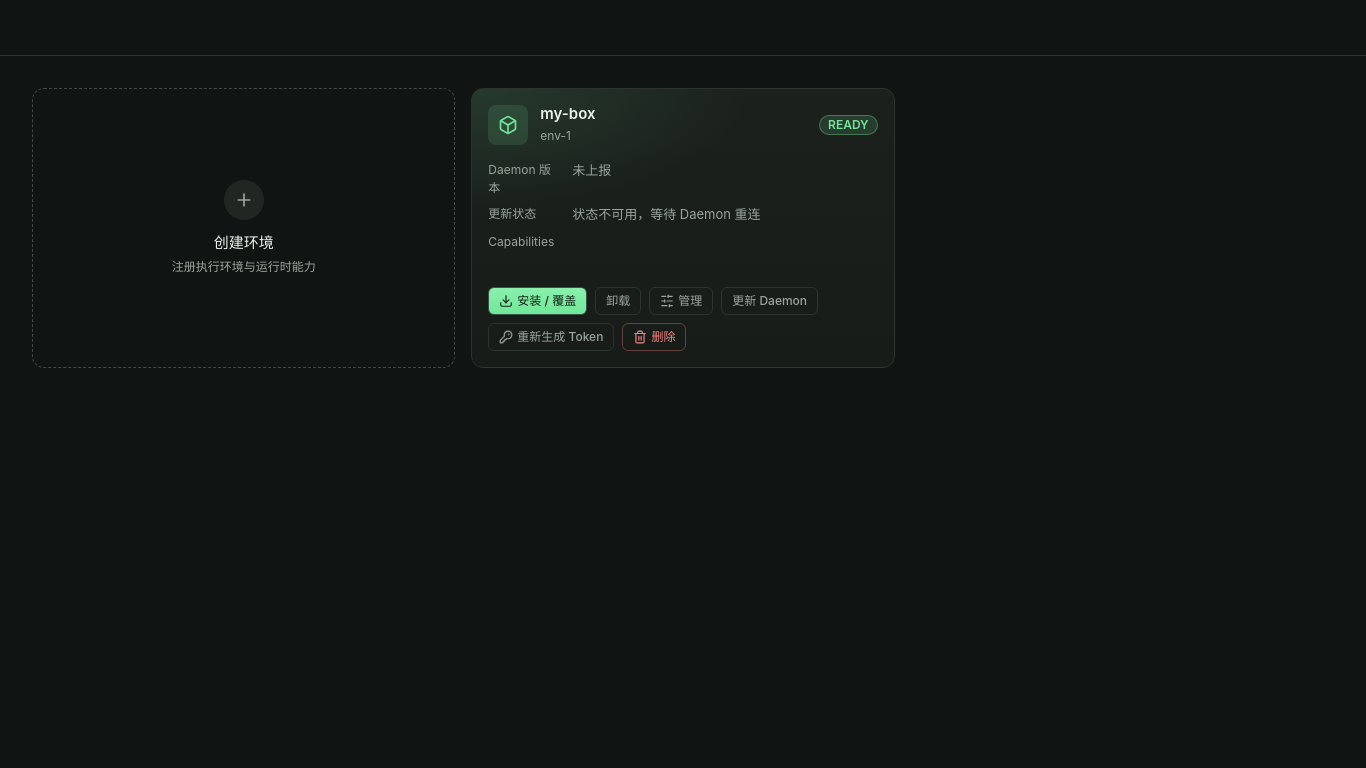
Scenario: EnvironmentsPage › shows visible error on rotate token failure and handles 409 conflict refresh
The width and height of the screenshot is (1366, 768).
Click the button "重新生成 Token" at {"x": 551, "y": 337}, box [488,323,614,351]
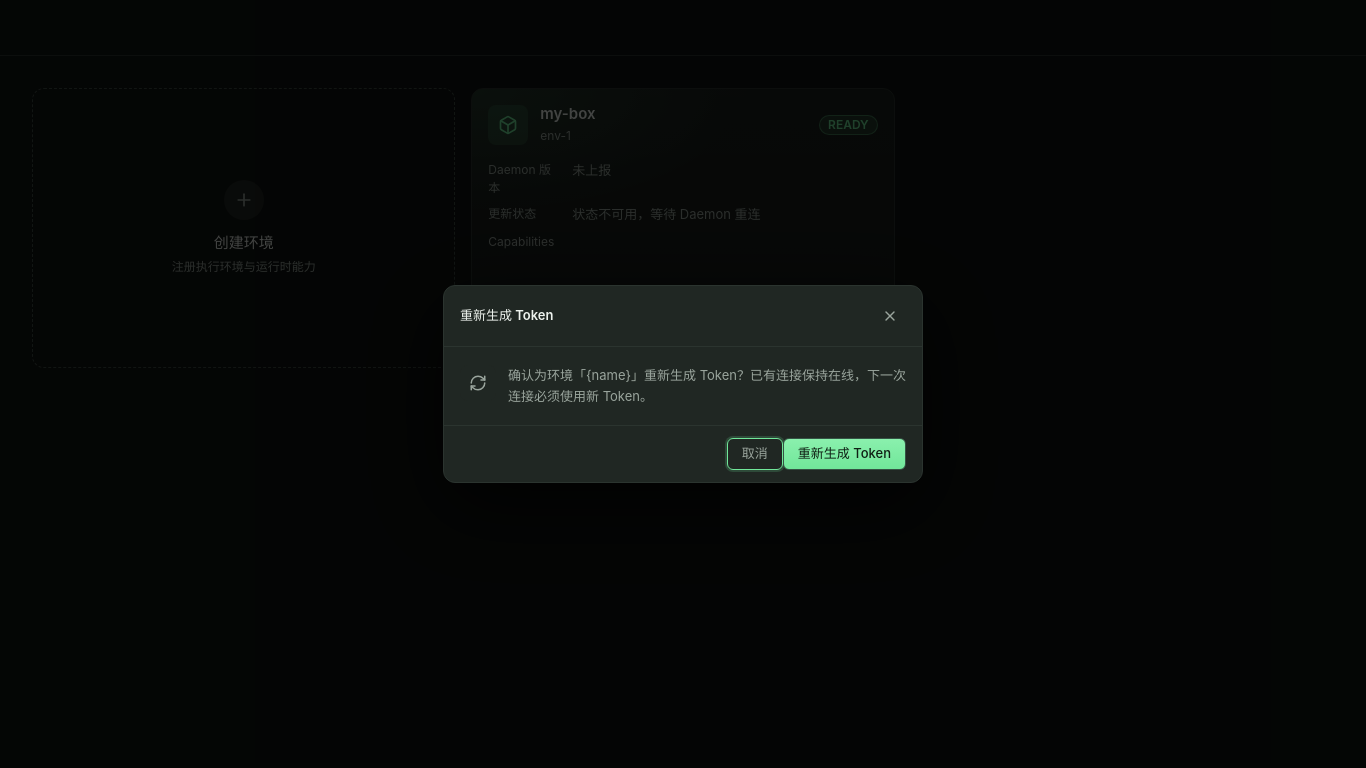
Click the button "重新生成 Token" at {"x": 844, "y": 454}, box [783,438,906,470]
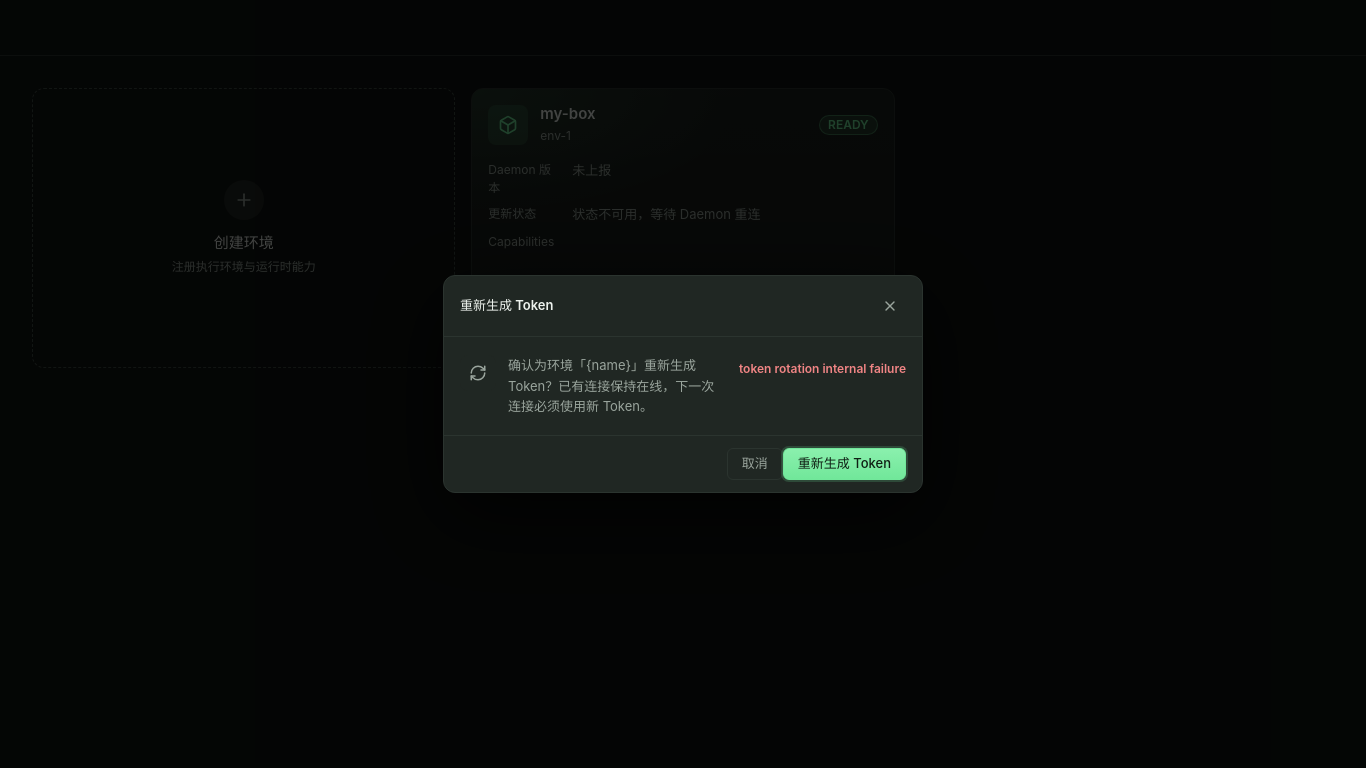
Expected: the message reads "token rotation internal failure", [739,361,906,376]
Click the button "重新生成 Token" at {"x": 844, "y": 464}, box [783,448,906,480]
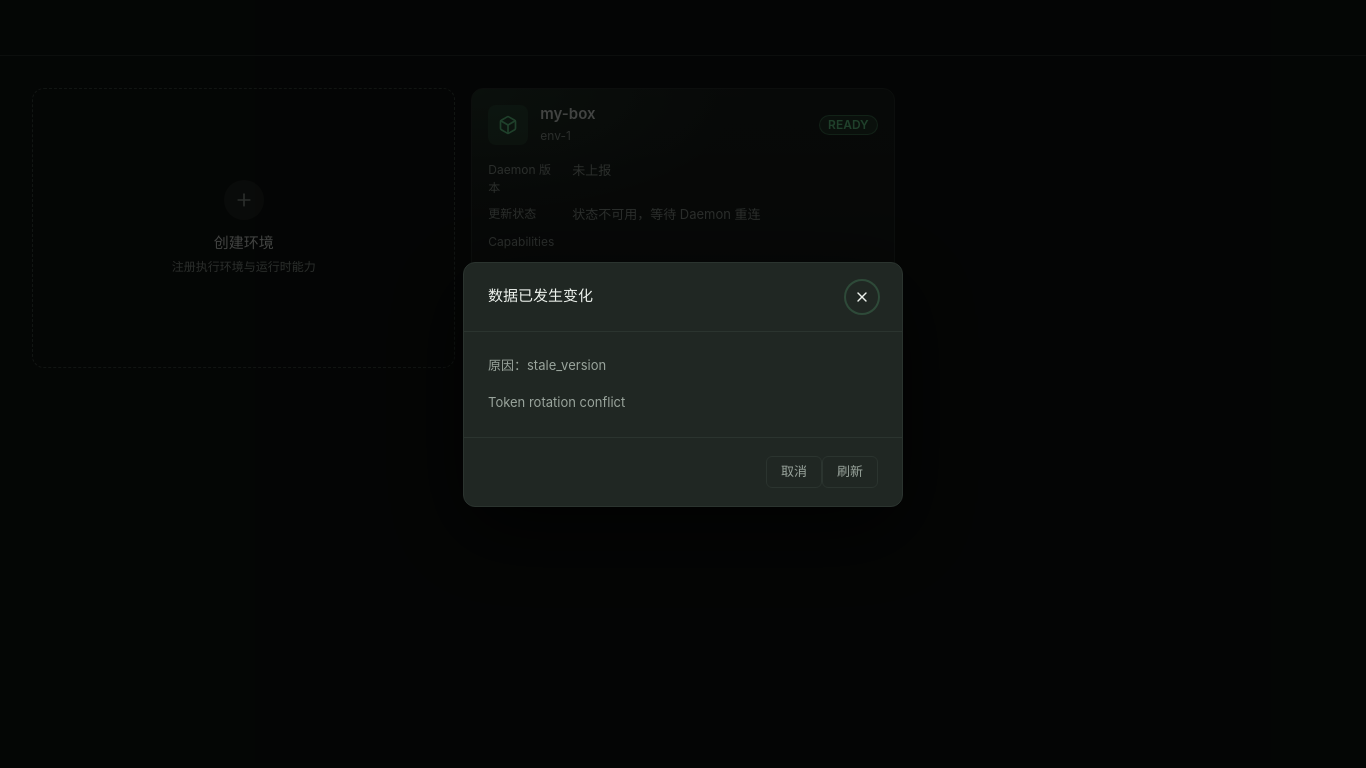
Expected: the text "原因：stale_version" is shown, [488,356,606,372]
Click the button "刷新" at {"x": 850, "y": 472}, box [822,456,878,488]
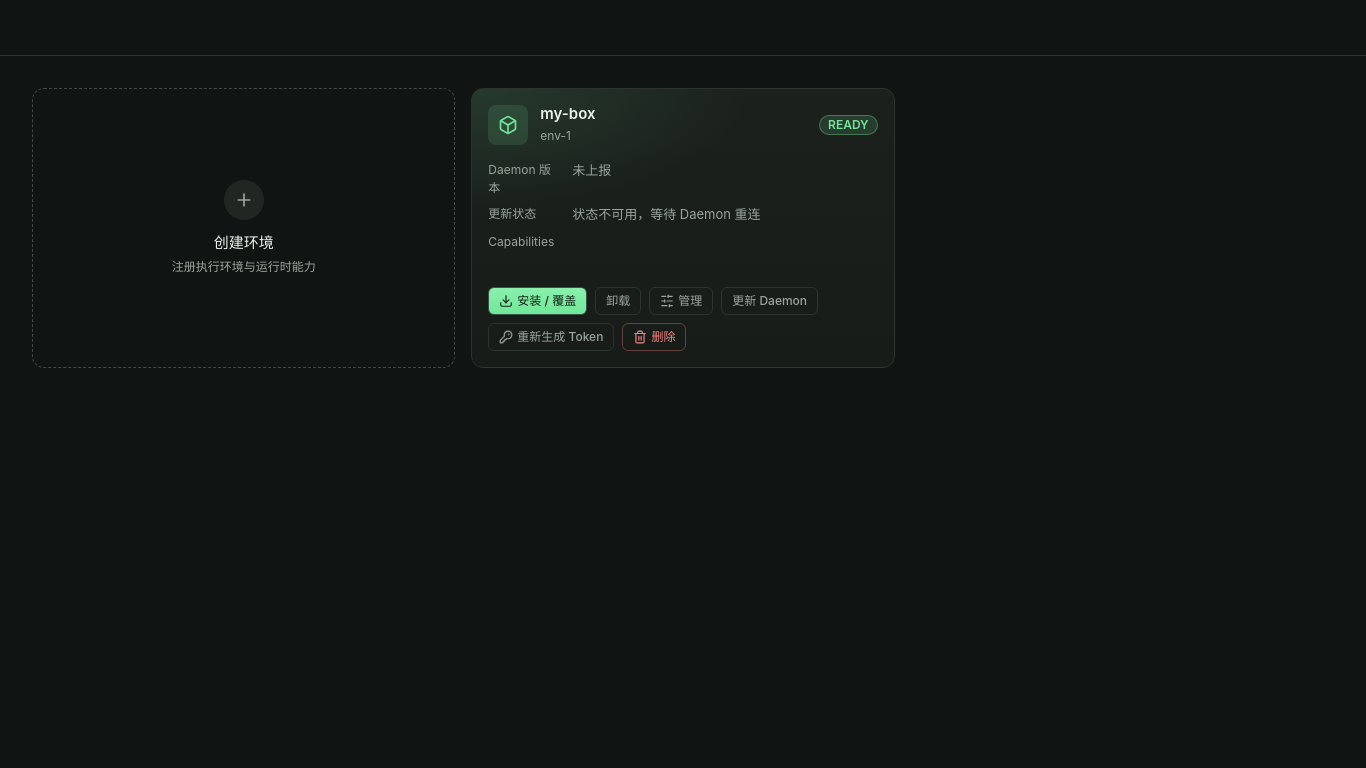
Expected: the heading "数据已发生变化" is gone
